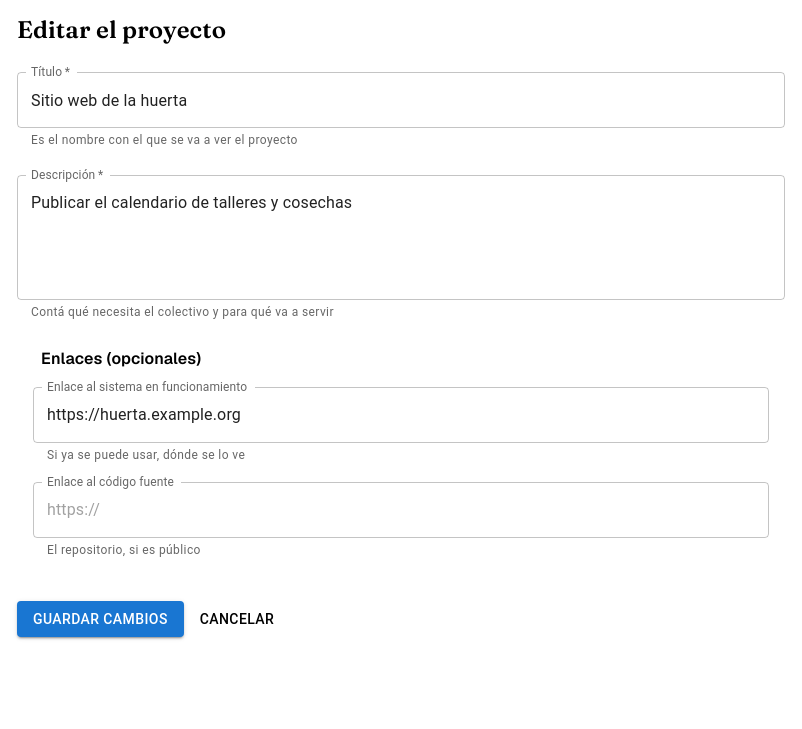
Test: EditarProyecto › si el back rechaza el cambio muestra su mensaje y conserva lo escrito
The width and height of the screenshot is (802, 729).
Replace the text in the field labelled "Título *" with "Mapa de humedales" at (401, 100), box [17,72,785,128]
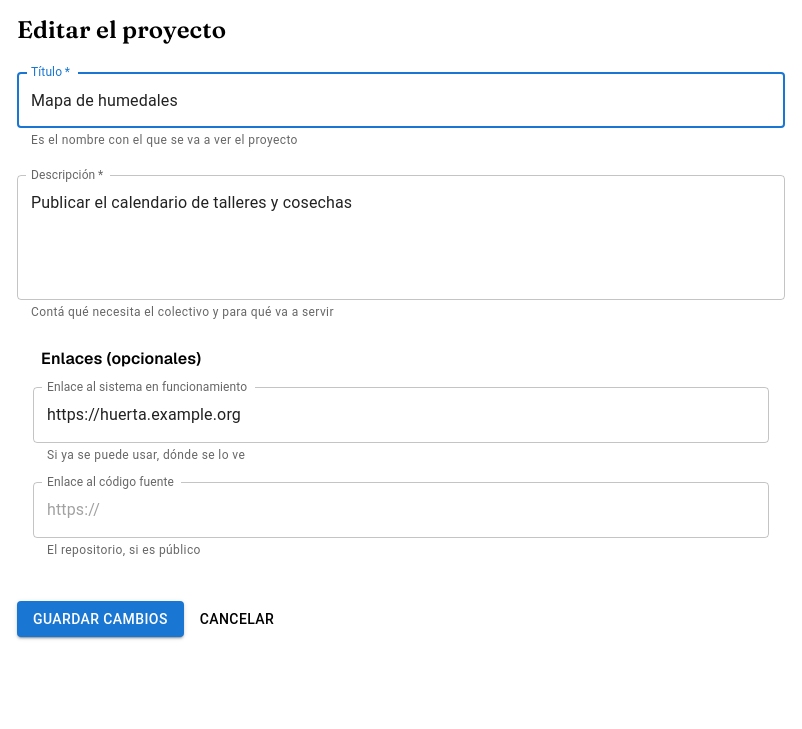
Click the button "Guardar cambios" at (100, 619), box [17,601,184,637]
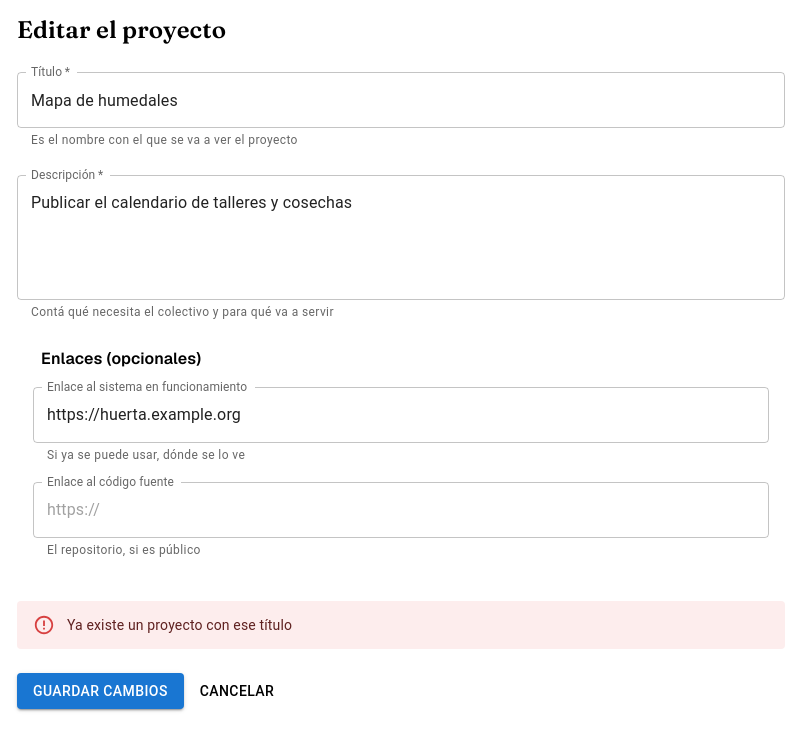
Expected: the button "Guardar cambios" is enabled, [17,673,184,709]
Expected: the message reads "Ya existe un proyecto con ese título", [67,617,292,633]
